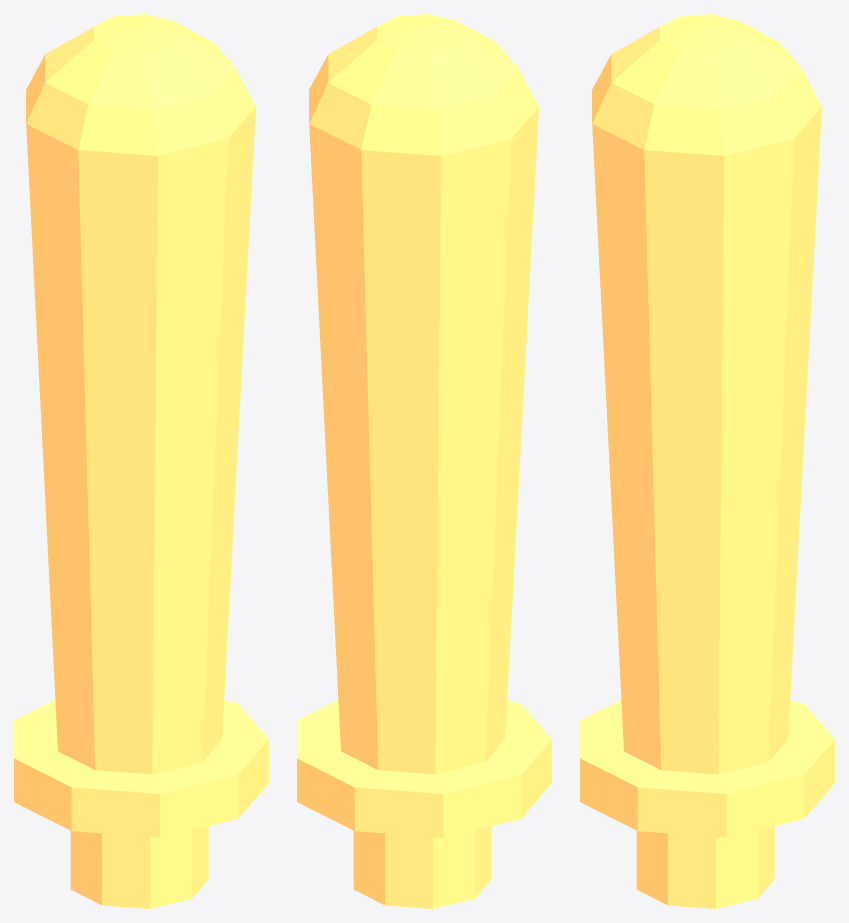
File: lever.fbx
3 renders of one model, left to right at view 1: azimuth 30°, elevation 25°; view 2: azimuth 150°, elevation 25°; view 3: azimuth 270°, elevation 25°, orthographic.
Parts seen in each view (by area): view 1: Cylinder; view 2: Cylinder; view 3: Cylinder.
Boxes of the visible parts, box(x1,y1,x2,y2) form: Cylinder: box(14, 14, 268, 908); Cylinder: box(297, 14, 551, 908); Cylinder: box(580, 14, 834, 908).
Size of the model in its own units: 109 by 397 by 108.
